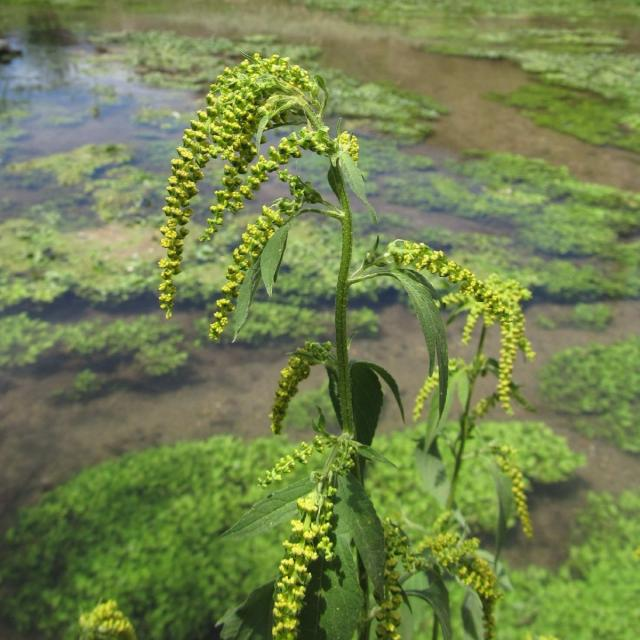ambrosia: (160, 67, 360, 339), (372, 216, 539, 406), (261, 439, 403, 637), (234, 349, 381, 454), (412, 488, 522, 616)
